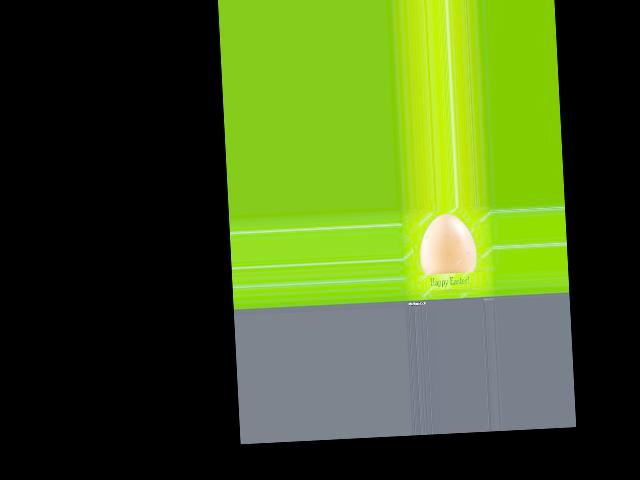egg: (418, 212, 477, 274)
